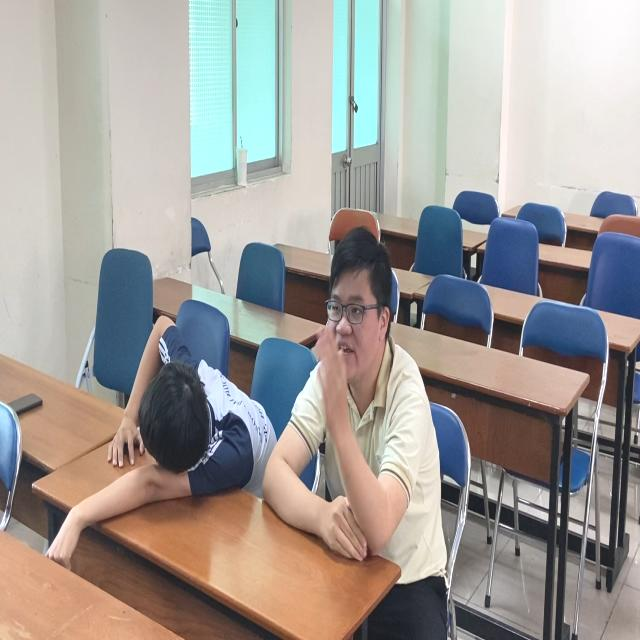raise_hand: (310, 209, 428, 569)
sleep: (57, 307, 275, 551)
